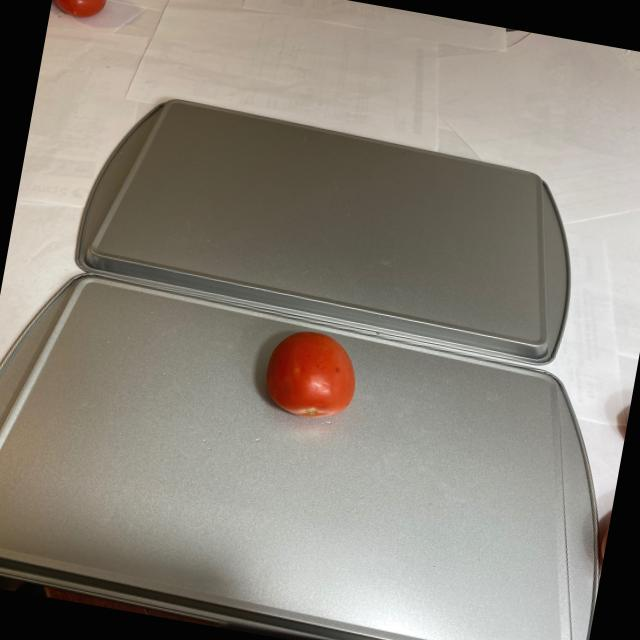tomato: (260, 323, 366, 426), (49, 0, 116, 40)
